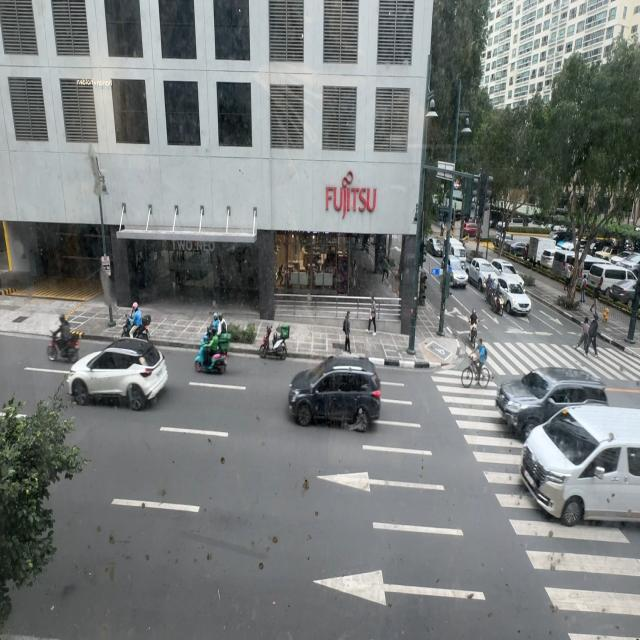crossing: (575, 315, 589, 353), (586, 314, 598, 358)
pedestrain: (342, 310, 352, 353), (368, 296, 378, 336)
